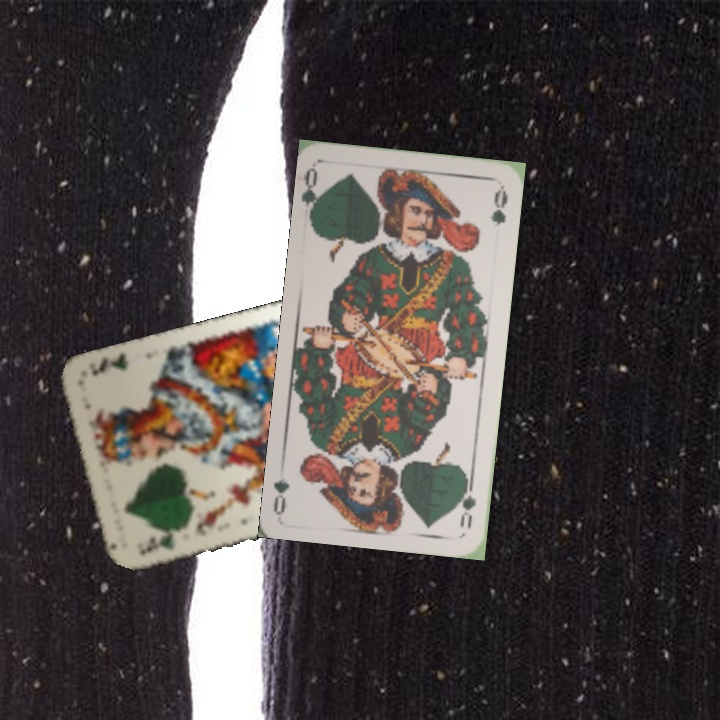GK: (132, 526, 184, 559)
GO: (299, 165, 328, 225), (454, 473, 478, 531)
